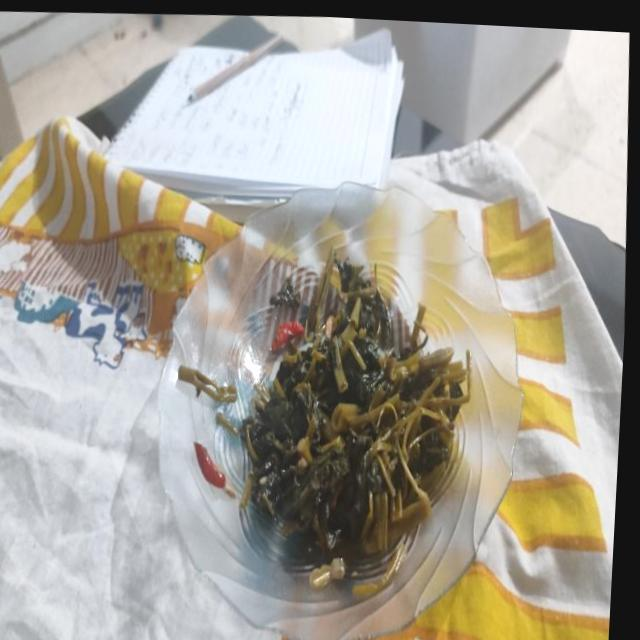tumis_kangkung: (241, 252, 470, 587)
